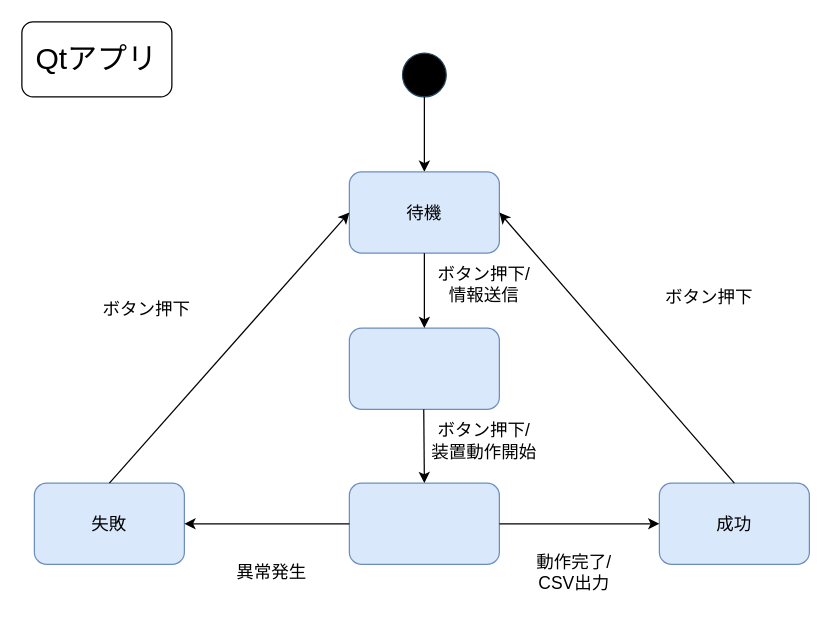
This 831x625 diagram has some shape labels left out. Each missing label, with the box of its shape:
測定中: (348, 482, 499, 564)
準備完了: (348, 327, 499, 409)
